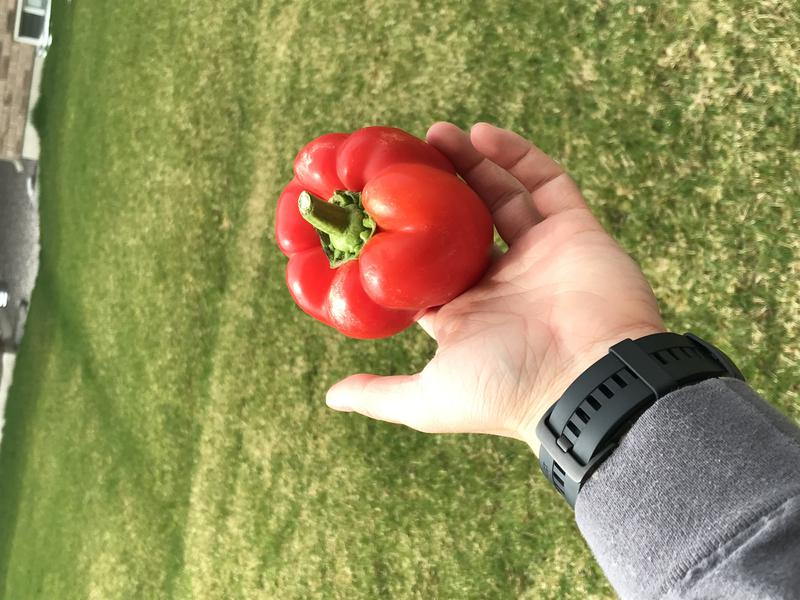red_pepper: (261, 117, 509, 350)
